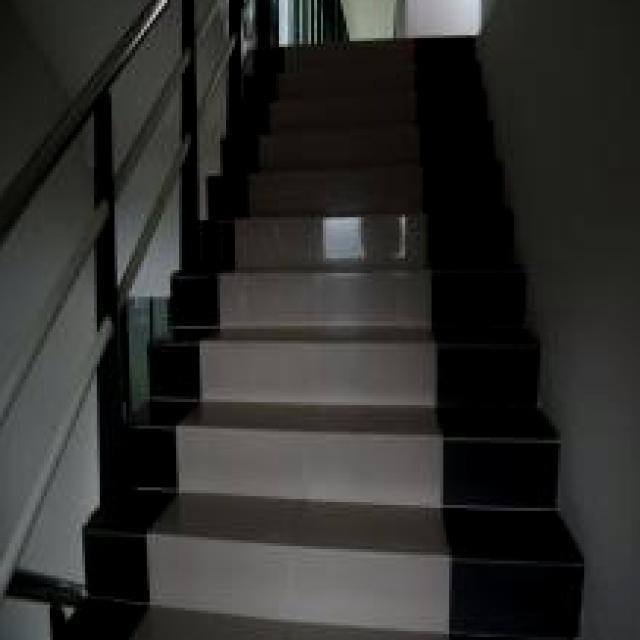upstair: (248, 36, 503, 640)
